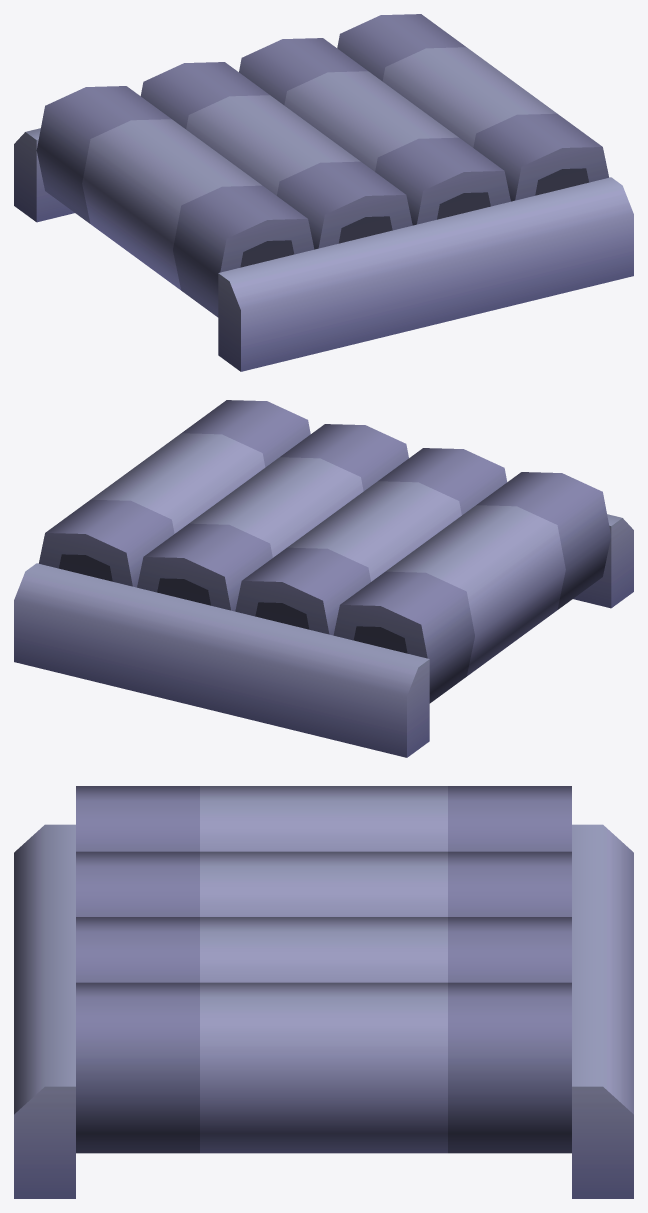
Rendered from kenney-conveyor-conveyor-bars-stripe-side.glb.
The picture shows the model from 3 angles, top to bottom: view 1: azimuth 30°, elevation 25°; view 2: azimuth 150°, elevation 25°; view 3: azimuth 270°, elevation 25°; orthographic projection. The views are drawn at different scales.
Parts seen in each view (by area): view 1: conveyor-bars-stripe-side; view 2: conveyor-bars-stripe-side; view 3: conveyor-bars-stripe-side.
Boxes of the visible parts, <box> form: conveyor-bars-stripe-side: <box>14,14,633,371</box>; conveyor-bars-stripe-side: <box>14,400,633,757</box>; conveyor-bars-stripe-side: <box>14,786,633,1198</box>.
Size of the model in its own units: 1 by 0.3 by 1.
Materials: 1 (1 with a texture image).
